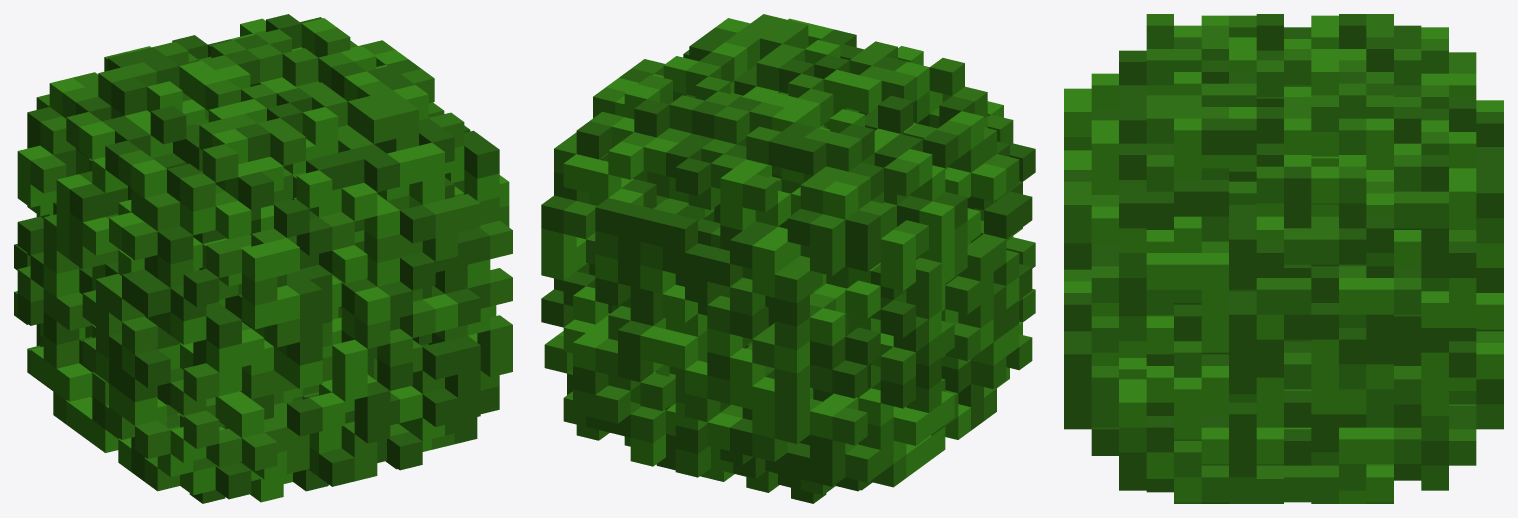
File: Foliage_Bush_3Big.obj
3 renders of one model, left to right at view 1: azimuth 30°, elevation 25°; view 2: azimuth 150°, elevation 25°; view 3: azimuth 270°, elevation 25°, orthographic. The views are drawn at different scales.
Bounding box in the file's own units: 1.6 × 1.5 × 1.6.
1 material, 1 textured.
